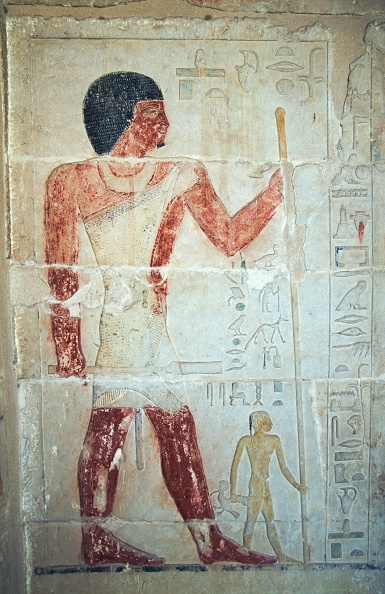em pe: (237, 401, 290, 543)
